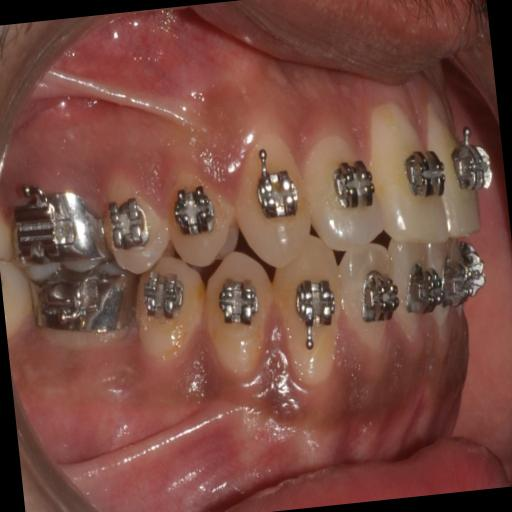correct_brace: (122, 250, 216, 380), (160, 152, 242, 264), (139, 262, 191, 333), (210, 272, 264, 338), (290, 272, 340, 342), (328, 157, 378, 215), (356, 268, 400, 329), (403, 146, 446, 208)
incorrect_brace: (268, 233, 354, 375), (298, 121, 381, 259), (164, 170, 222, 256)
